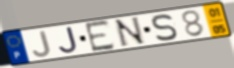8: (181, 9, 205, 38)
E: (82, 19, 117, 54)
J: (31, 29, 53, 58), (58, 26, 79, 55)
N: (113, 16, 148, 49)
S: (151, 13, 180, 42)
